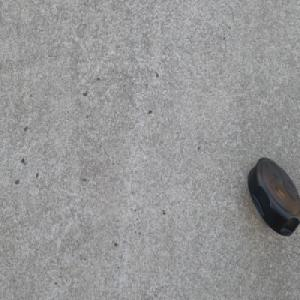FuelCap: (246, 156, 299, 236)
